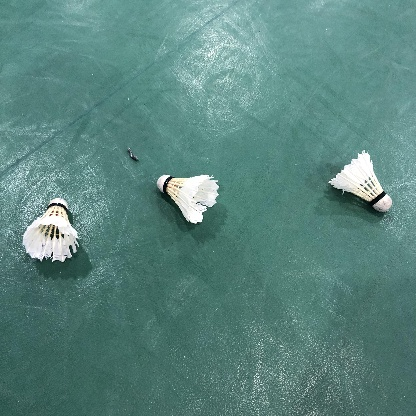ball_single: (329, 150, 392, 212), (23, 198, 79, 262), (157, 174, 219, 224)
